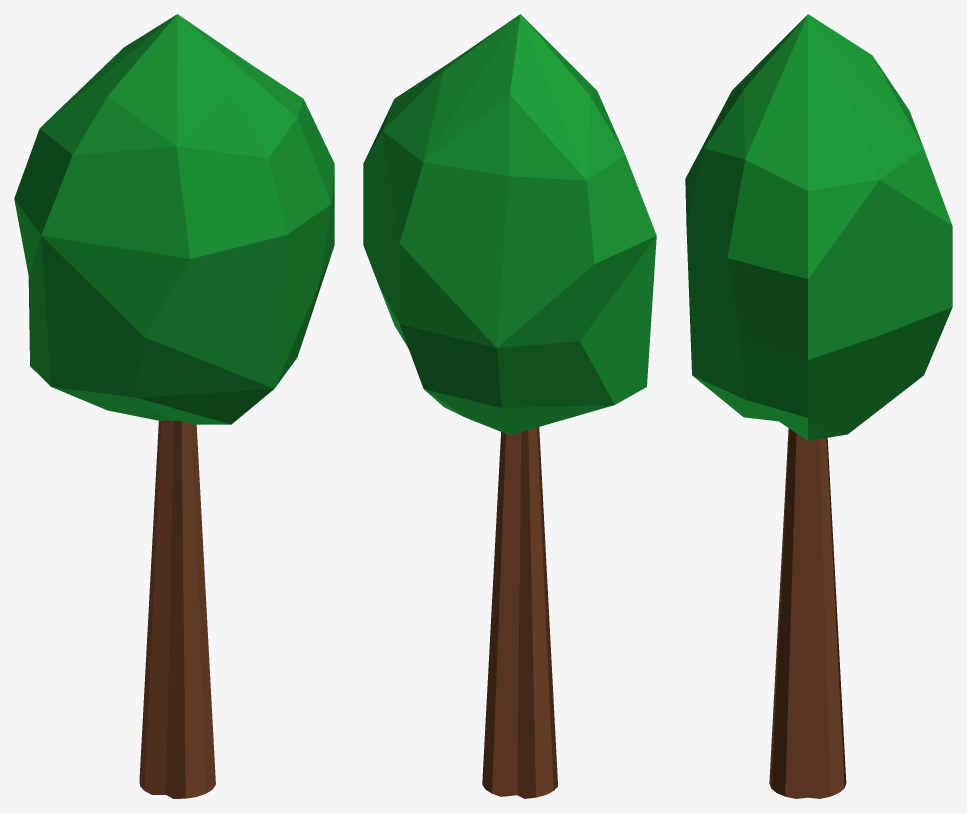
Rendered from H_Normal_Tree.fbx.
The picture shows the model from 3 angles, left to right: view 1: azimuth 30°, elevation 25°; view 2: azimuth 150°, elevation 25°; view 3: azimuth 270°, elevation 25°; orthographic projection.
Visible parts, largest first — view 1: pSphere6; view 2: pSphere6; view 3: pSphere6.
Part boxes in pixels (left/top/right/bottom): pSphere6: left=14, top=14, right=334, bottom=798; pSphere6: left=363, top=14, right=656, bottom=798; pSphere6: left=685, top=14, right=952, bottom=798.
Size of the model in its own units: 3.52 by 8.82 by 2.78.
